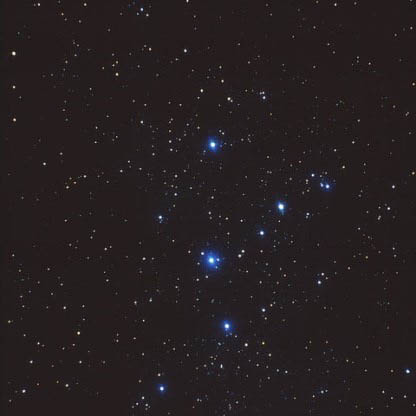Cassiopeia: (243, 200, 299, 237), (210, 309, 252, 344), (193, 247, 233, 282), (196, 128, 222, 161), (150, 371, 174, 397)
